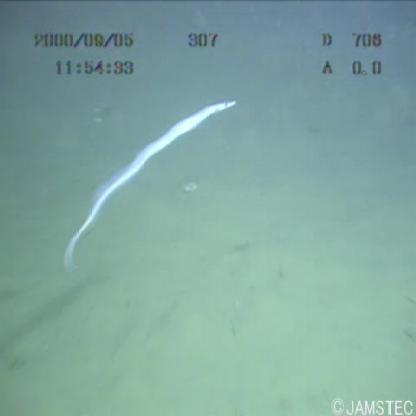Bio: (54, 89, 240, 288)
